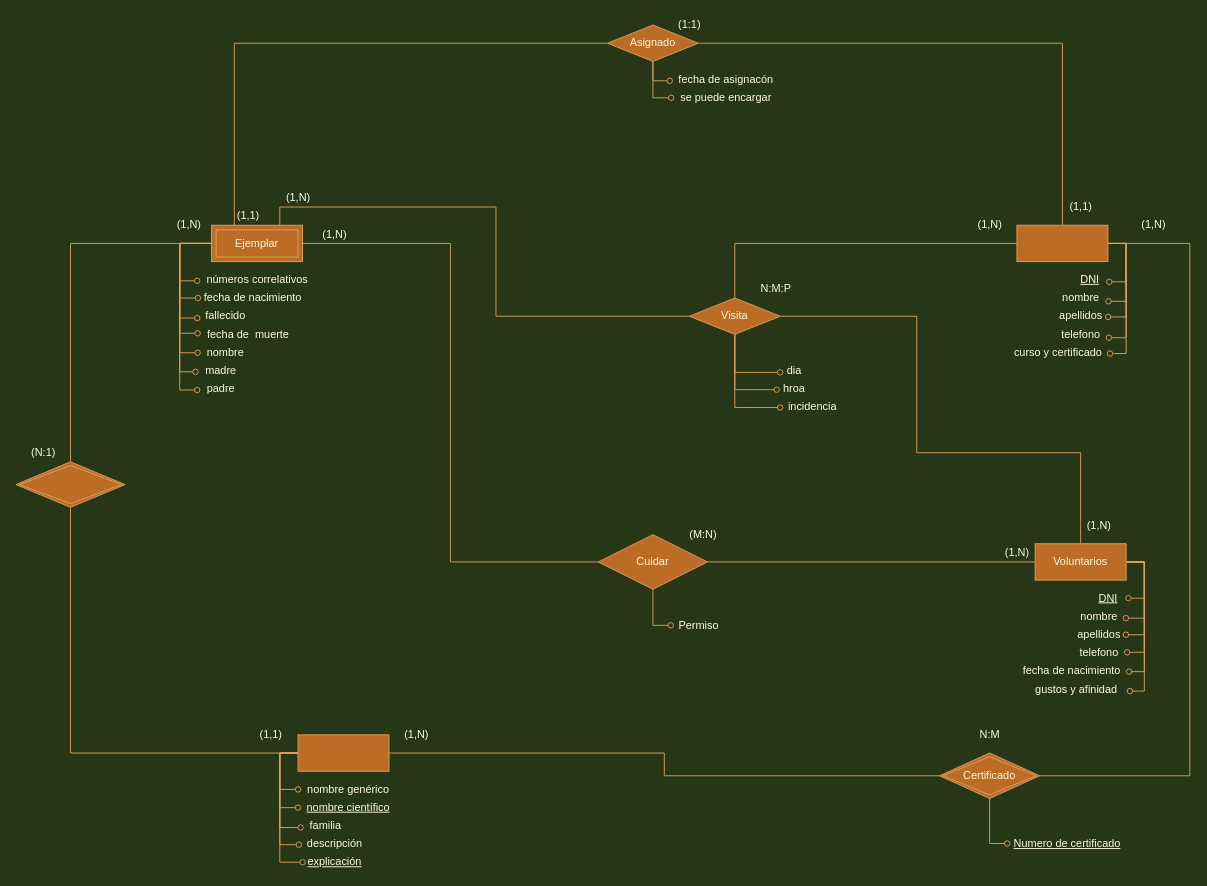
This 1207x886 diagram has some shape labels left out. The centre of each missing label's shape, as x and y in pixels:
Cuidador: [1062,243]
Especie: [343,752]
Pertence: [70,484]
